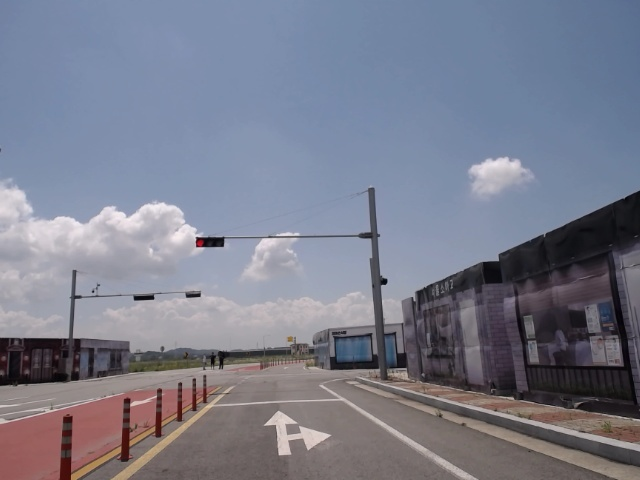red_3: (194, 238, 227, 248)
